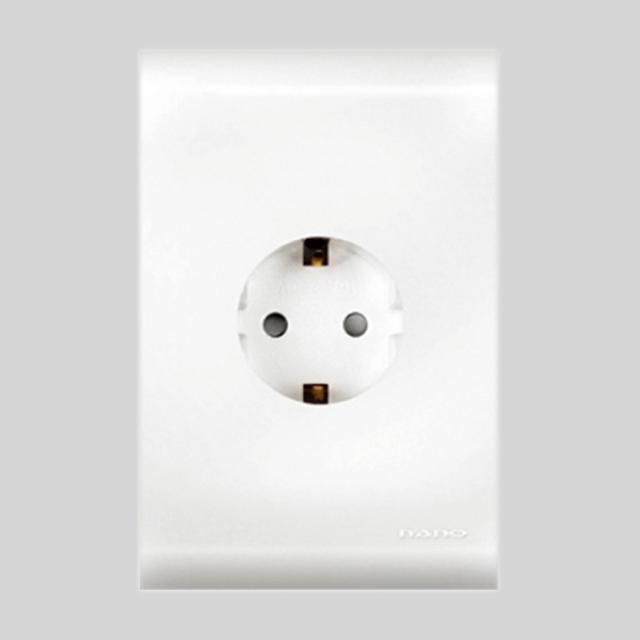typeb: (116, 40, 568, 614)
